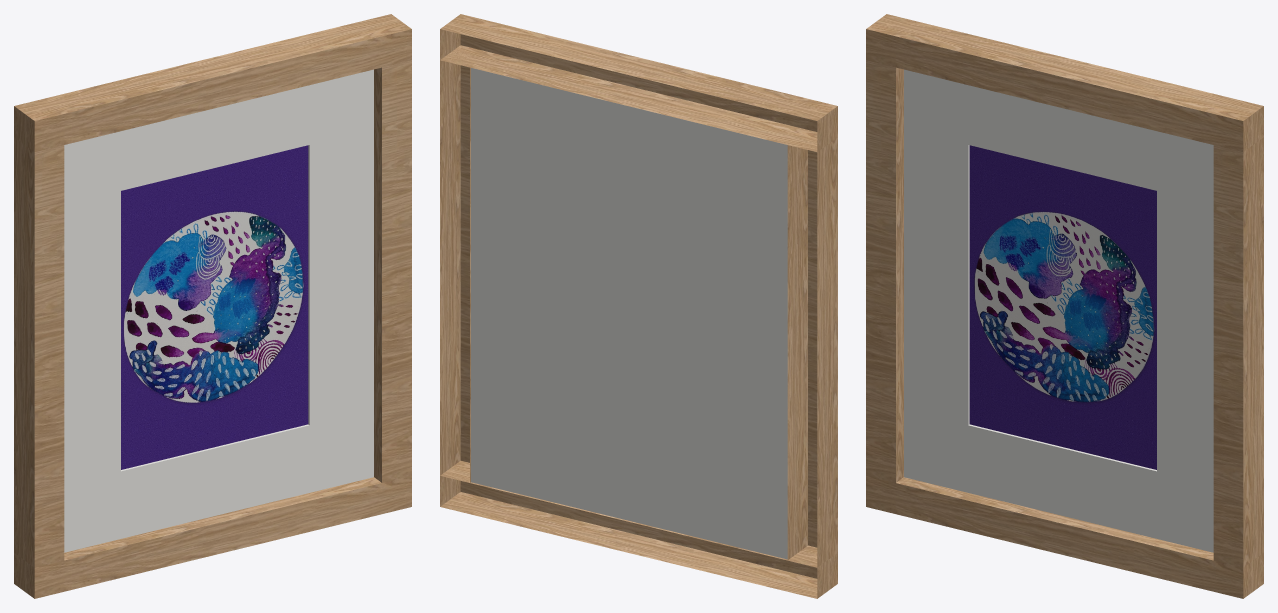
The model's file is purple-blues.glb.
3 views of the same model, side by side, from view 1: azimuth 30°, elevation 25°; view 2: azimuth 150°, elevation 25°; view 3: azimuth 330°, elevation 25° (orthographic).
Parts seen in each view (by area): view 1: framed-art; view 2: framed-art; view 3: framed-art.
Boxes of the visible parts, x1,y1,x2,y2 form: framed-art: (14,14,411,598); framed-art: (440,14,837,598); framed-art: (866,14,1263,598).
Bounding box in the file's own units: 0.2413 × 0.2921 × 0.0229.
3 materials, 3 textured.
